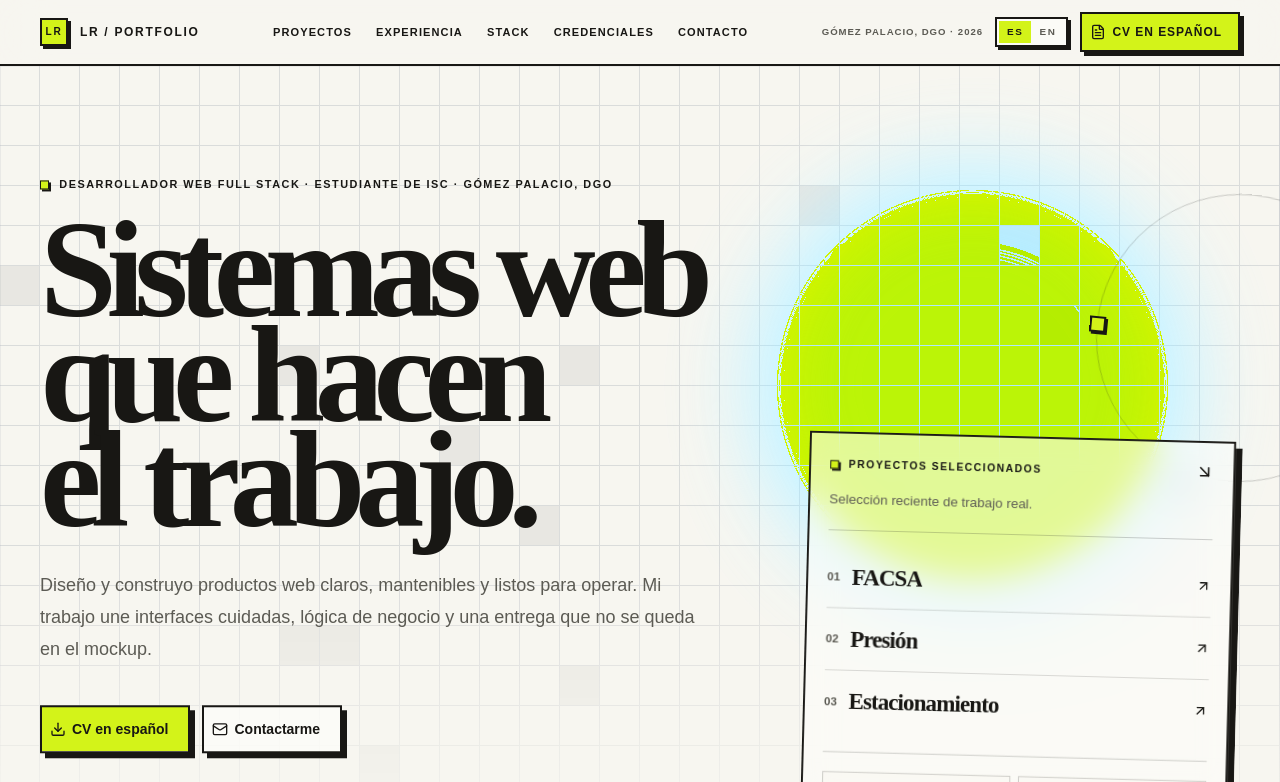
Test: App › switches to English and serves the English CV
Click the button "EN" at (1048, 32), box [1032,21,1064,44]
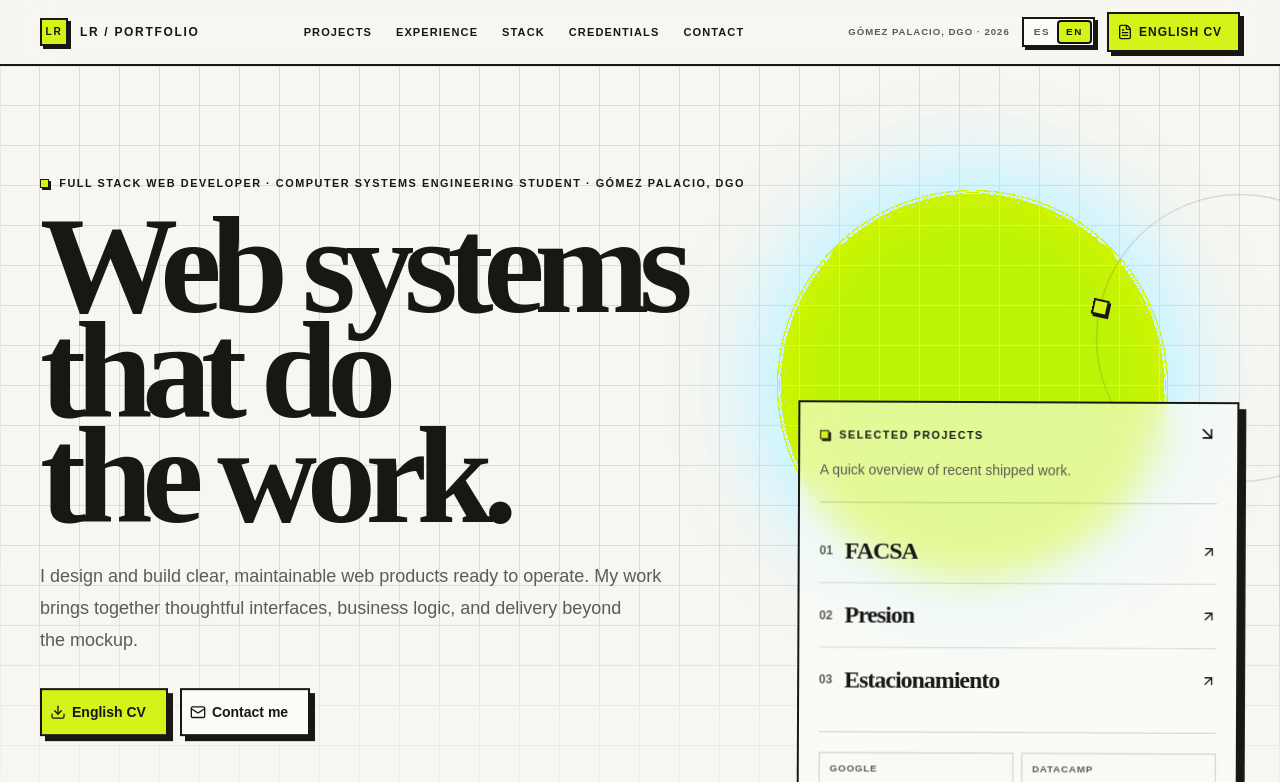
expect the heading "Web systems that do the work." is shown: met, box [40,213,748,528]
